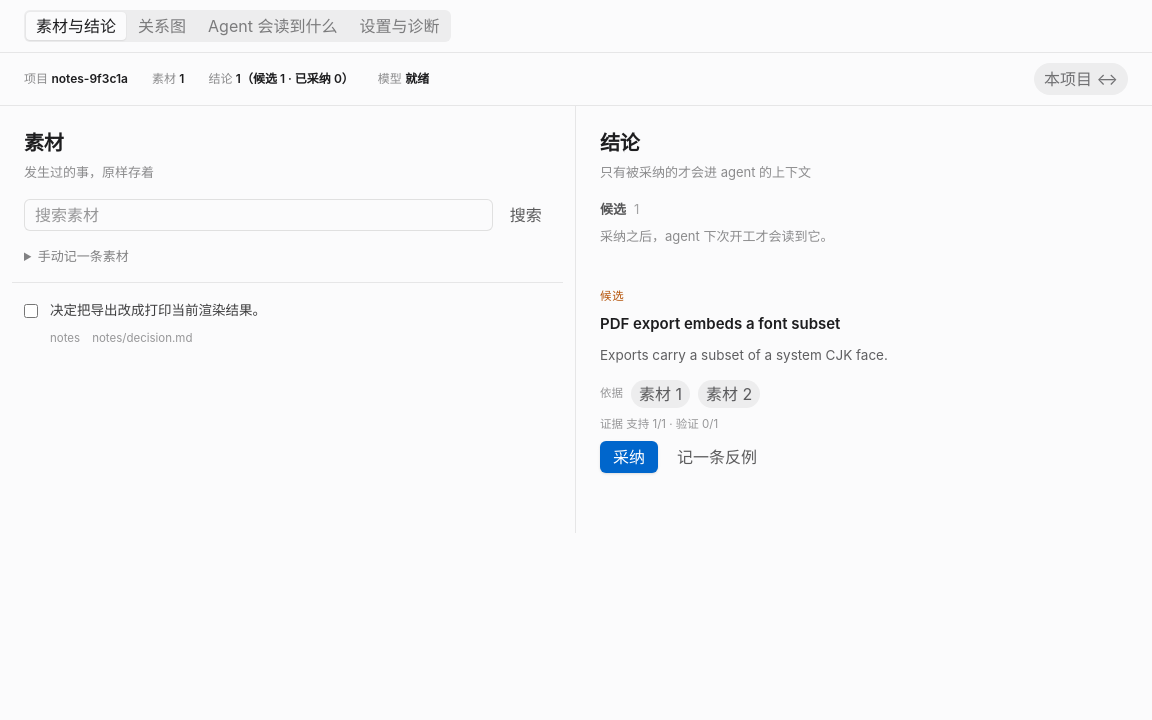
Test: MemoryPanel › acts on the entry it opened, without making you find it again
Click the button "素材 1": (660, 394) [631,380,690,408]
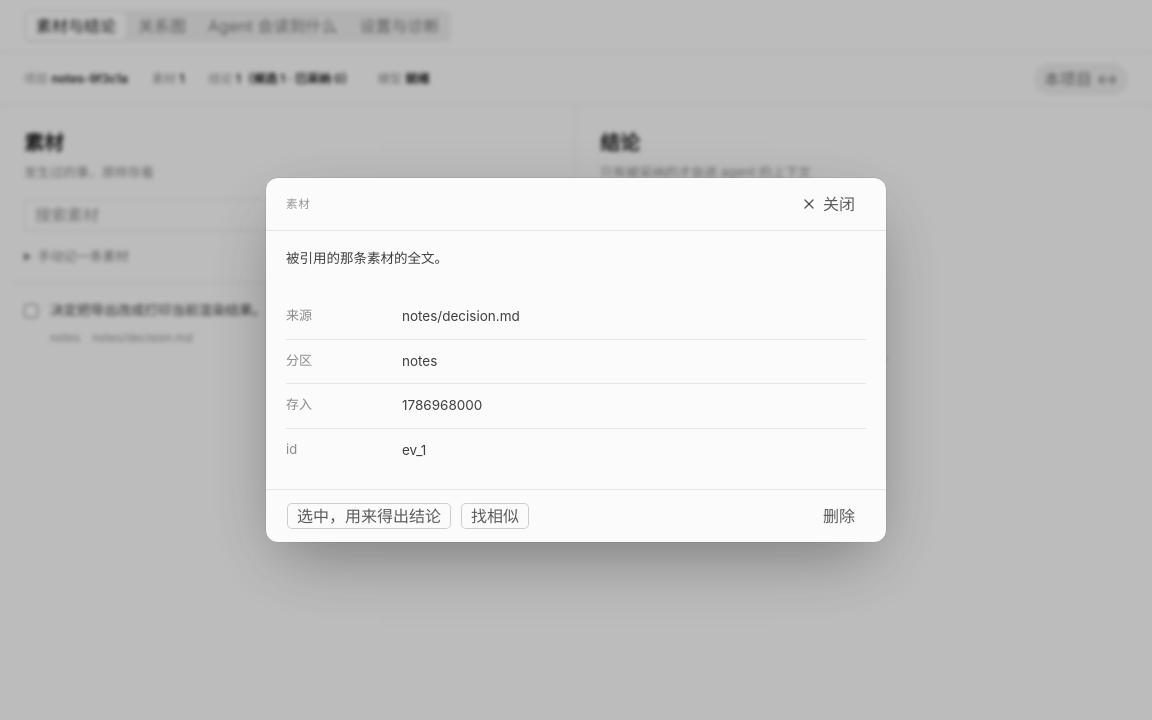
expect the dialog with test id "memory-entry-dialog" is shown: met, box [266,178,886,542]
expect the dialog with test id "memory-entry-dialog" shows "被引用的那条素材的全文。": met, box [286,250,448,266]
Click the button "删除": (839, 516) [812,502,866,530]
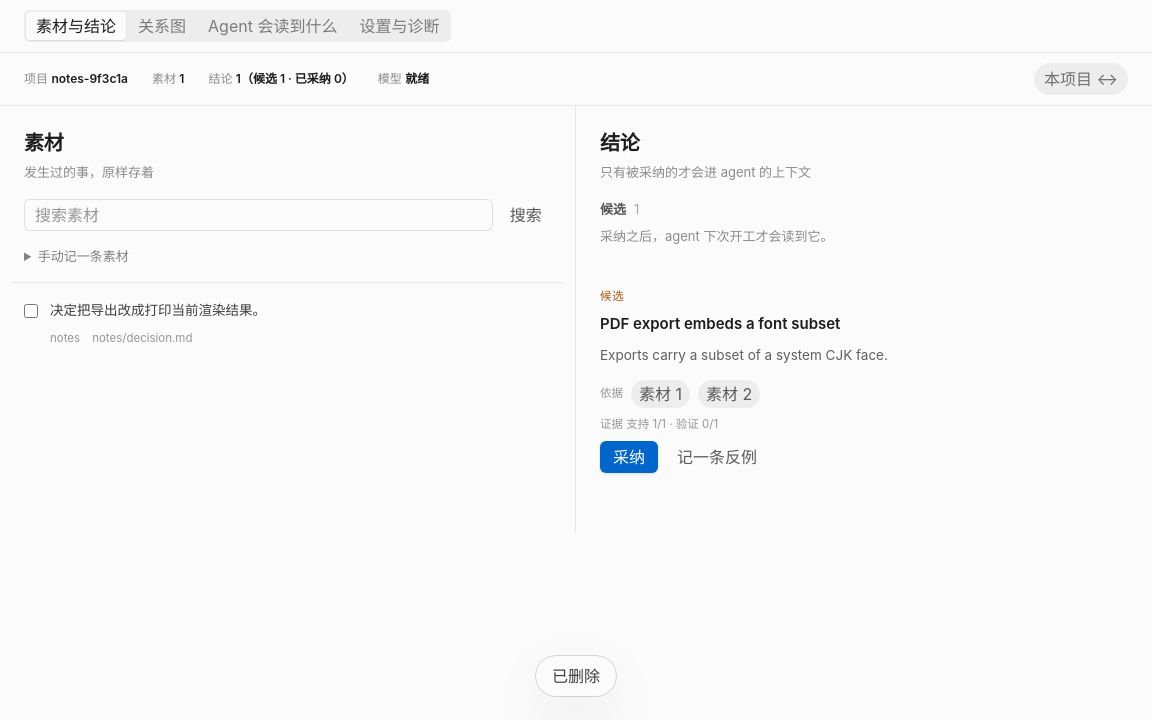
expect the dialog with test id "memory-entry-dialog" is gone: met
